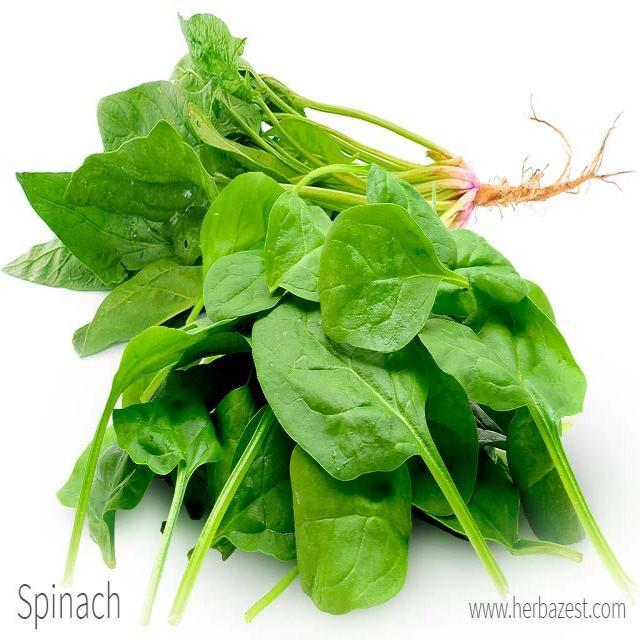Spinach: (6, 9, 640, 623)
